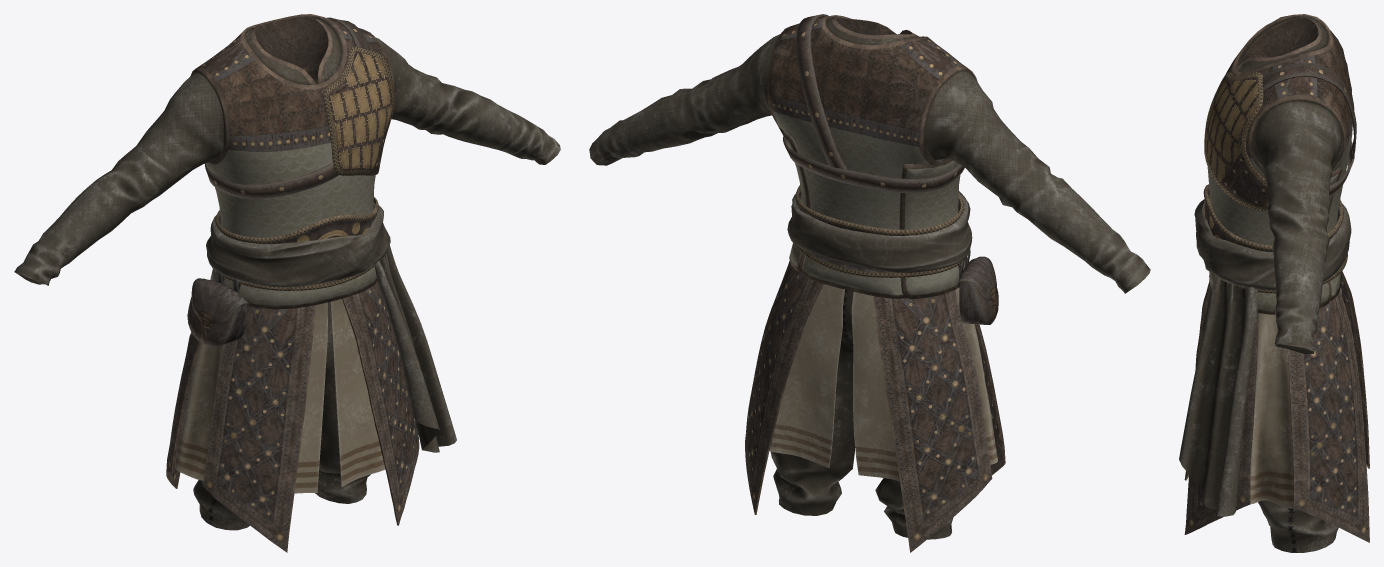
Rendered from dunland_wulf_scalemail_elite_e.fbx.
3 renders of one model, left to right at view 1: azimuth 30°, elevation 25°; view 2: azimuth 150°, elevation 25°; view 3: azimuth 270°, elevation 25°, orthographic. The views are drawn at different scales.
Visible parts, largest first — view 1: dunland_wulf_scalemail_elite_e.base, dunland_wulf_scalemail_elite_e.leatherskirt, dunland_wulf_scalemail_elite_e.skirt, dunland_wulf_scalemail_elite_e.prop, dunland_wulf_scalemail_elite_e.belt; view 2: dunland_wulf_scalemail_elite_e.base, dunland_wulf_scalemail_elite_e.leatherskirt, dunland_wulf_scalemail_elite_e.skirt, dunland_wulf_scalemail_elite_e.belt, dunland_wulf_scalemail_elite_e.prop; view 3: dunland_wulf_scalemail_elite_e.base, dunland_wulf_scalemail_elite_e.leatherskirt, dunland_wulf_scalemail_elite_e.prop, dunland_wulf_scalemail_elite_e.skirt, dunland_wulf_scalemail_elite_e.belt.
Boxes of the visible parts, x1,y1,x2,y2 form: dunland_wulf_scalemail_elite_e.base: [14, 14, 560, 530]; dunland_wulf_scalemail_elite_e.leatherskirt: [166, 46, 419, 552]; dunland_wulf_scalemail_elite_e.skirt: [175, 299, 385, 493]; dunland_wulf_scalemail_elite_e.prop: [187, 17, 456, 452]; dunland_wulf_scalemail_elite_e.belt: [206, 197, 390, 290]; dunland_wulf_scalemail_elite_e.base: [589, 15, 1150, 539]; dunland_wulf_scalemail_elite_e.leatherskirt: [745, 261, 1005, 552]; dunland_wulf_scalemail_elite_e.skirt: [769, 284, 997, 481]; dunland_wulf_scalemail_elite_e.belt: [787, 185, 972, 277]; dunland_wulf_scalemail_elite_e.prop: [783, 14, 998, 324]; dunland_wulf_scalemail_elite_e.base: [1207, 14, 1354, 552]; dunland_wulf_scalemail_elite_e.leatherskirt: [1184, 72, 1369, 542]; dunland_wulf_scalemail_elite_e.prop: [1179, 63, 1356, 516]; dunland_wulf_scalemail_elite_e.skirt: [1250, 288, 1341, 507]; dunland_wulf_scalemail_elite_e.belt: [1194, 184, 1351, 293].
Size of the model in its own units: 1.38 by 0.4202 by 1.18.
Materials: 4 (4 with a texture image).
